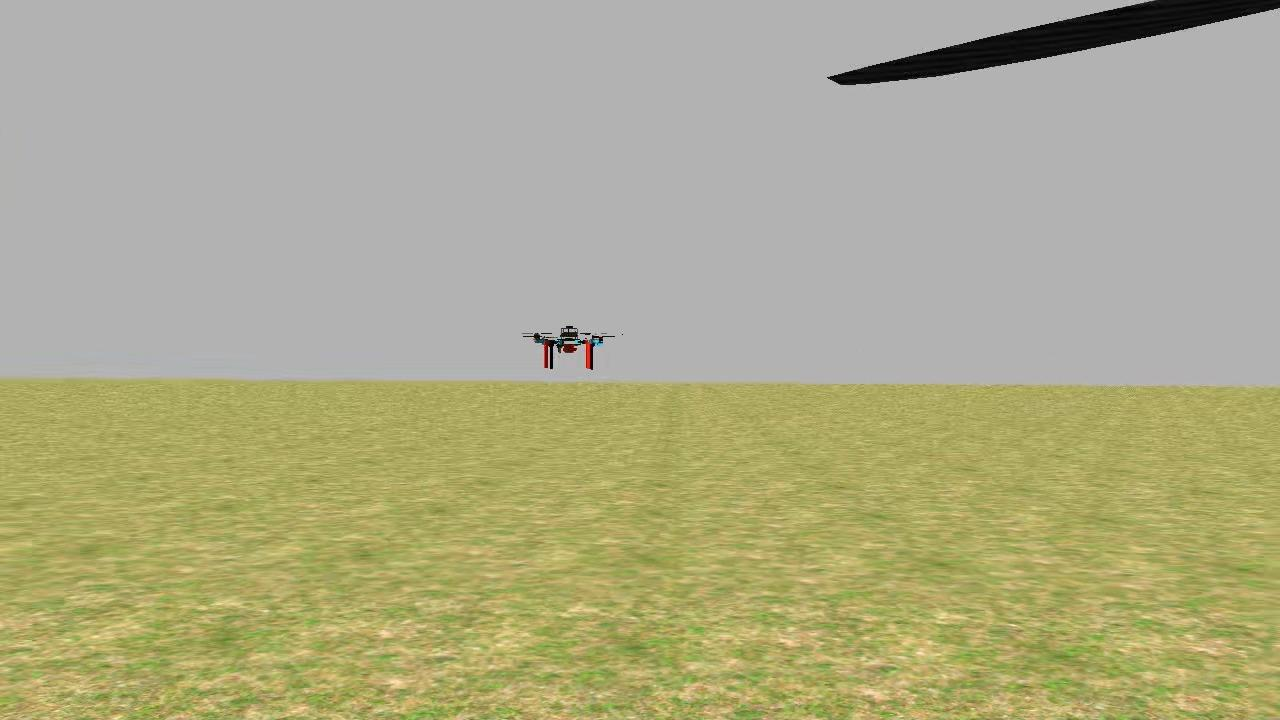UAV: (528, 322, 606, 374)
